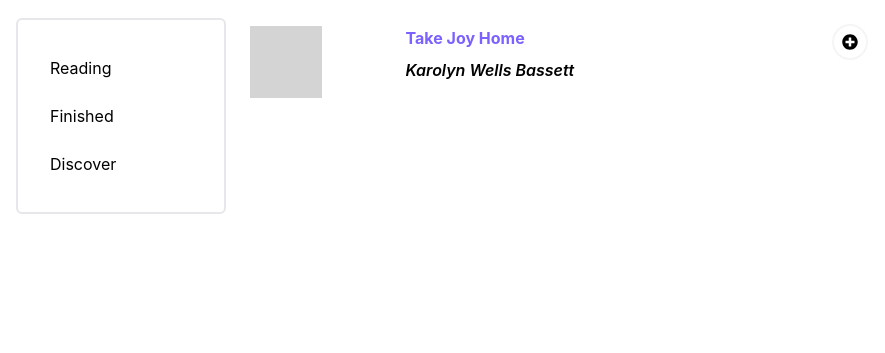
Test: Mark a list item as read
This screenshot has width=885, height=353.
Click the button named "add to list".
click(850, 42)  # box [832, 24, 868, 60]
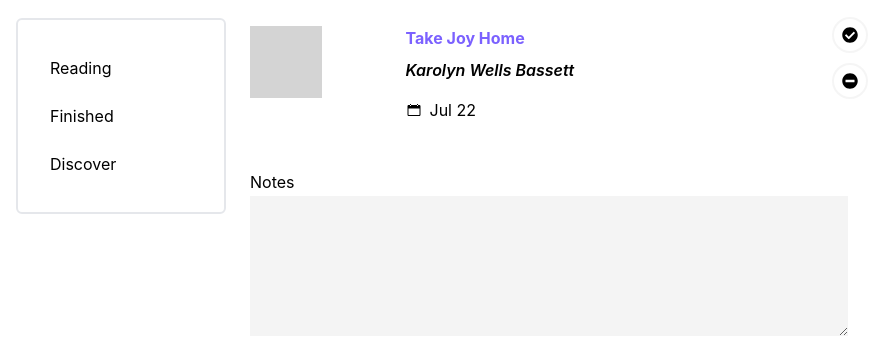
Click the button named "mark as read".
click(850, 35)  # box [832, 17, 868, 53]
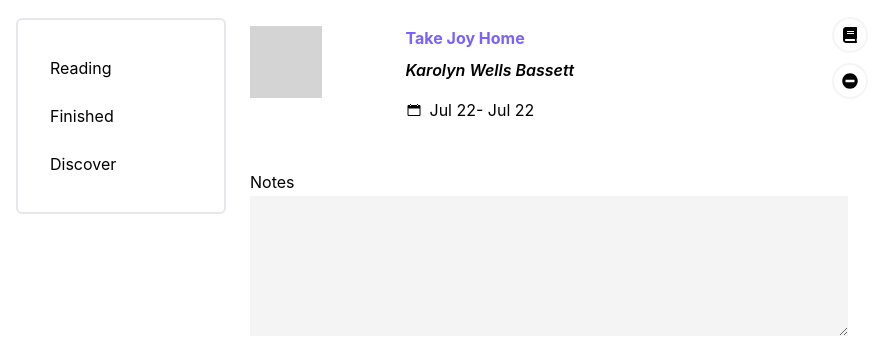
Result: the button named "remove from list" is shown at [832, 63, 868, 99]
Result: the button named "mark as unread" is shown at [832, 17, 868, 53]
Result: the element named "start and end date" is shown at [406, 100, 534, 120]
